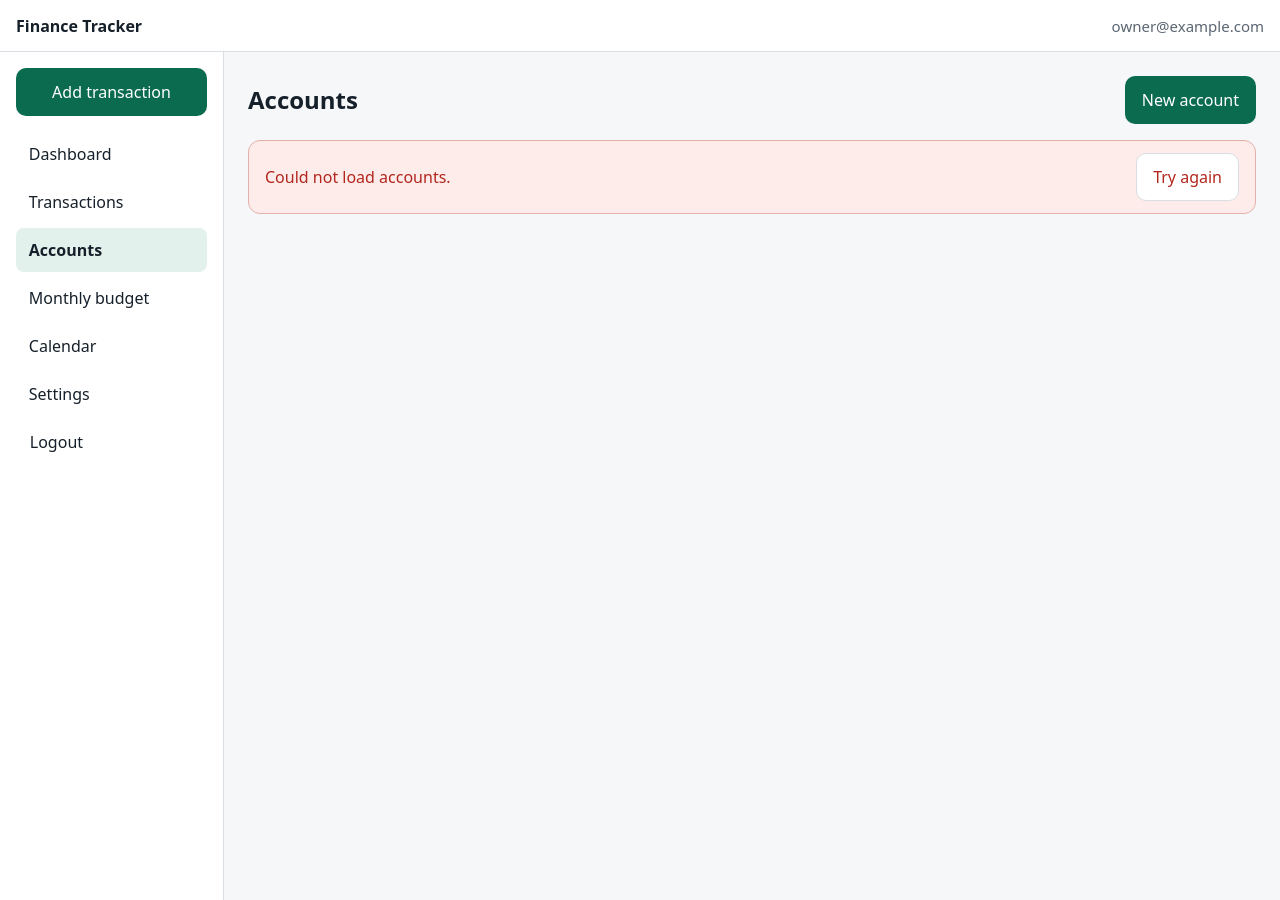
Scenario: accounts list › shows an error banner and recovers on retry
The width and height of the screenshot is (1280, 900).
Expected: the message shows "Could not load accounts.", [265, 166, 451, 188]
Click the button "Try again" at x=1188, y=177, box [1136, 153, 1239, 201]
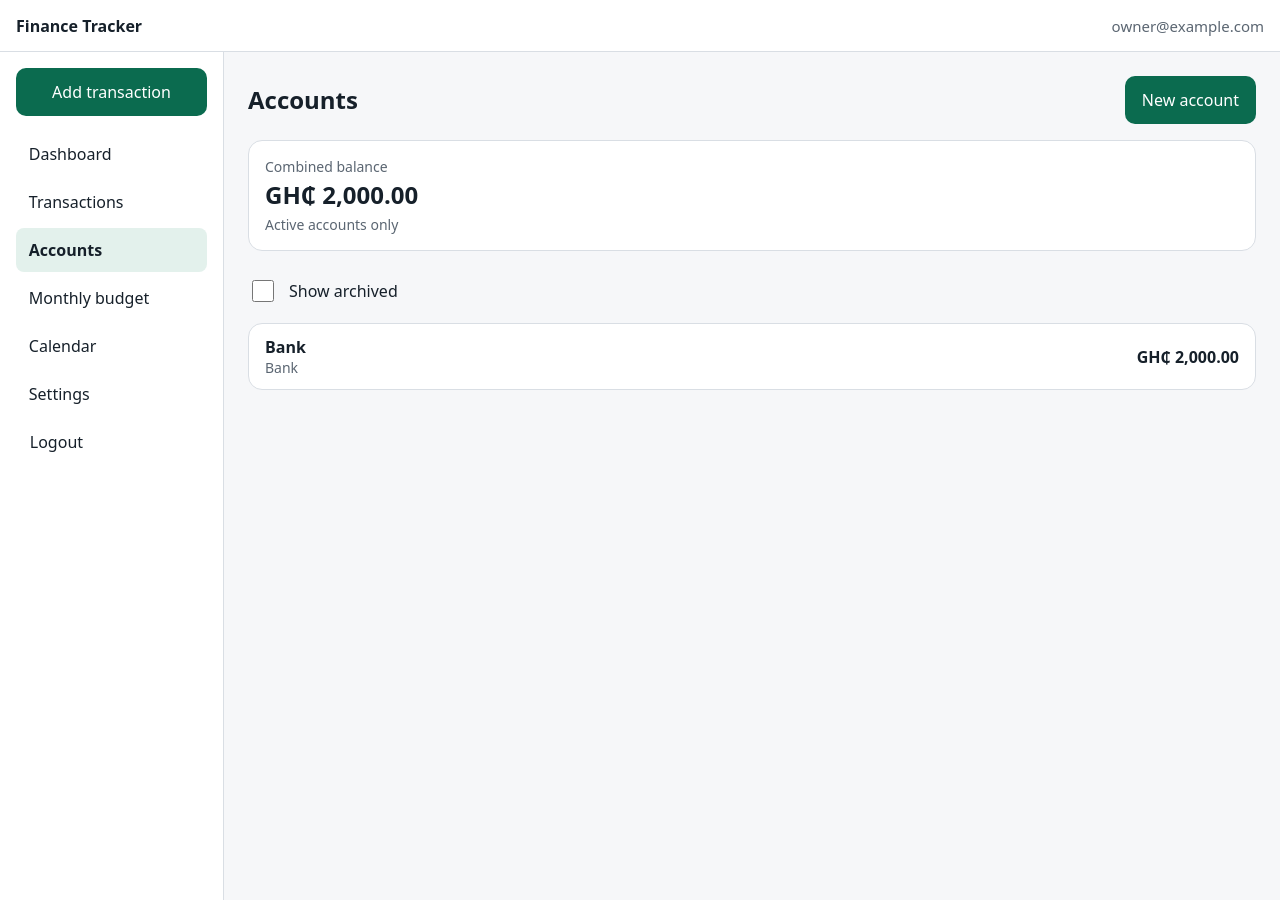
Expected: the link "Bank Bank GH₵ 2,000.00" is shown, [248, 323, 1256, 390]
